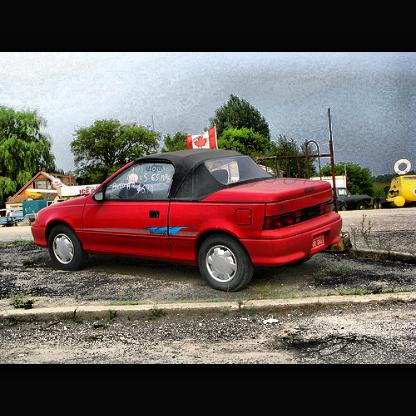Geo Metro Convertible 1993: (31, 149, 346, 297)
